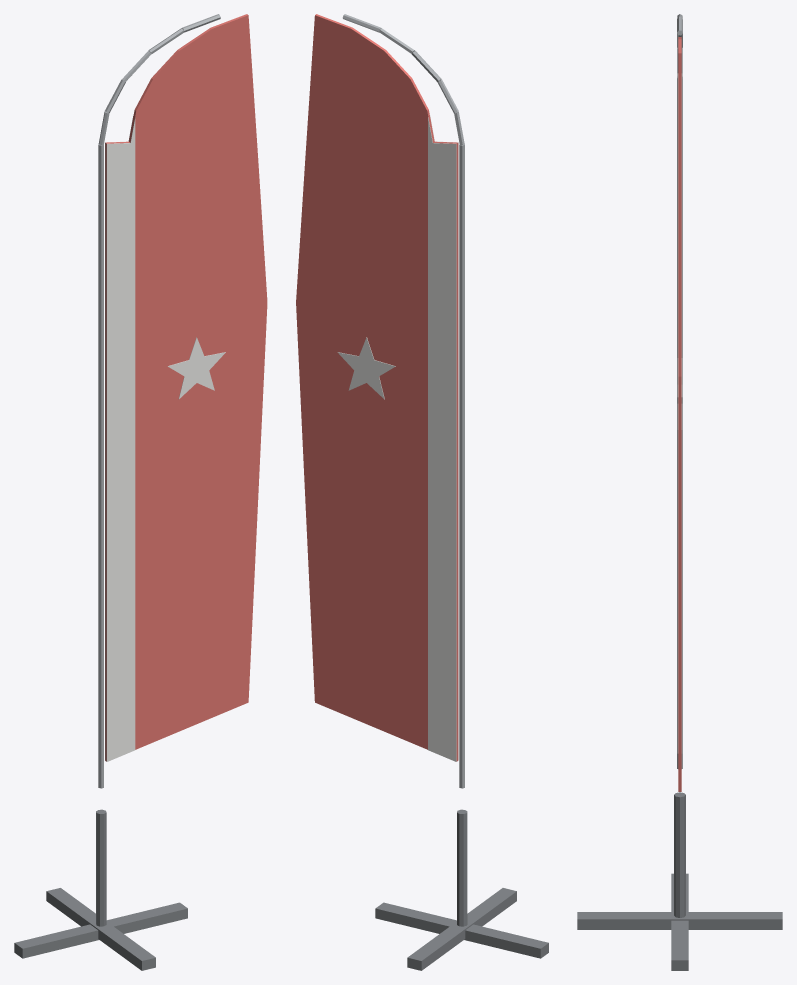
The model's file is flag_r.glb.
3 views of the same model, side by side, from view 1: azimuth 30°, elevation 25°; view 2: azimuth 150°, elevation 25°; view 3: azimuth 270°, elevation 25° (orthographic). The views are drawn at different scales.
Parts seen in each view (by area): view 1: flag_r_flag_r, flag_r_paint_w, flag_r_steel_d, flag_r_steel; view 2: flag_r_flag_r, flag_r_paint_w, flag_r_steel_d, flag_r_steel; view 3: flag_r_steel_d, flag_r_flag_r, flag_r_paint_w, flag_r_steel.
Part boxes in pixels (x1=…): flag_r_flag_r: x1=105, y1=14, x2=267, y2=761; flag_r_paint_w: x1=105, y1=116, x2=225, y2=761; flag_r_steel_d: x1=14, y1=809, x2=187, y2=970; flag_r_steel: x1=98, y1=14, x2=220, y2=788; flag_r_flag_r: x1=296, y1=14, x2=458, y2=761; flag_r_paint_w: x1=337, y1=115, x2=458, y2=761; flag_r_steel_d: x1=375, y1=809, x2=548, y2=970; flag_r_steel: x1=342, y1=14, x2=464, y2=788; flag_r_steel_d: x1=577, y1=792, x2=782, y2=970; flag_r_flag_r: x1=678, y1=37, x2=681, y2=791; flag_r_paint_w: x1=677, y1=73, x2=682, y2=753; flag_r_steel: x1=677, y1=14, x2=682, y2=768.
Size of the model in its own units: 1.05 by 3.61 by 0.7.
